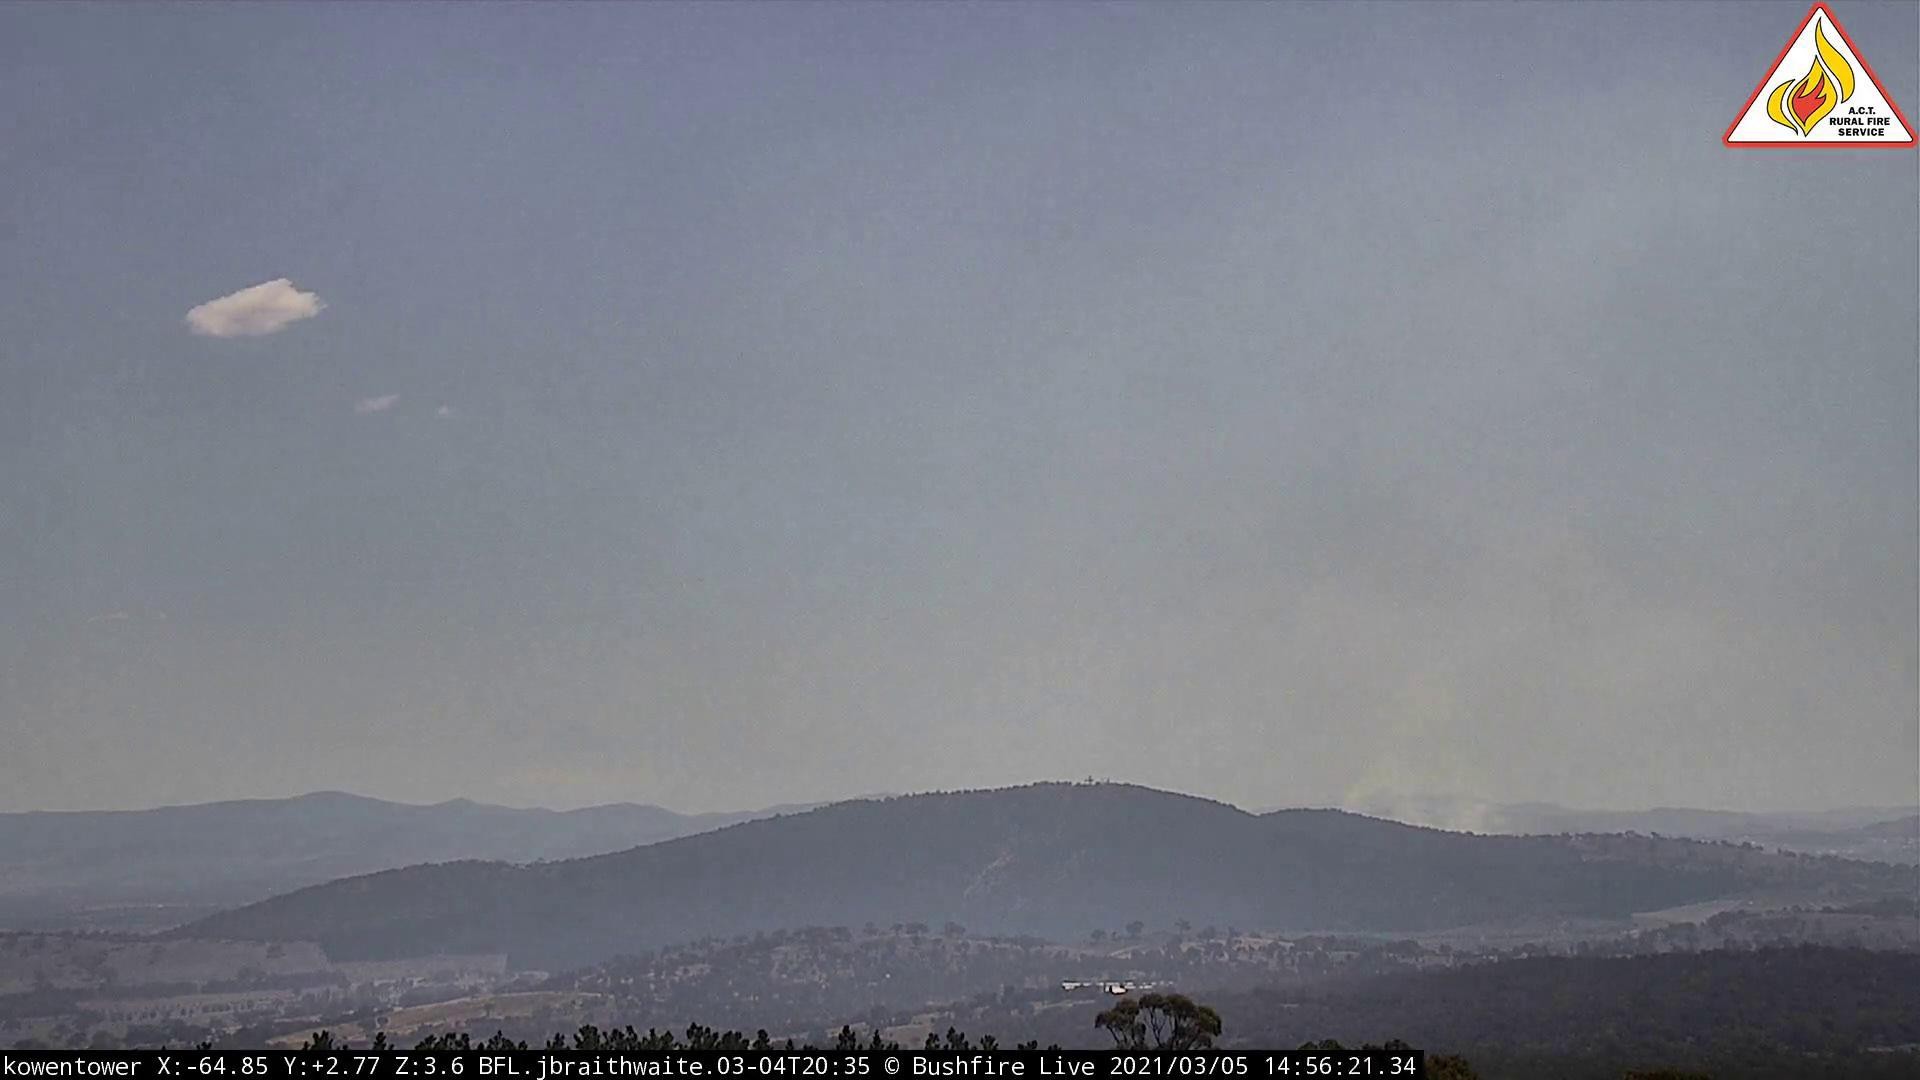Smoke: (1197, 487, 1756, 851)
